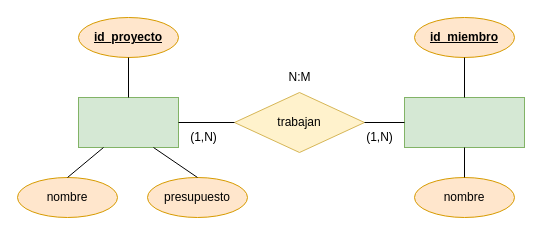
Image size: 542x235. Some labels were removed from this diagram. The centre of each missing label's shape, as x and y in pixels:
"MIEMBRO" goes at [464,122].
"PROYECTO" goes at [128,122].
